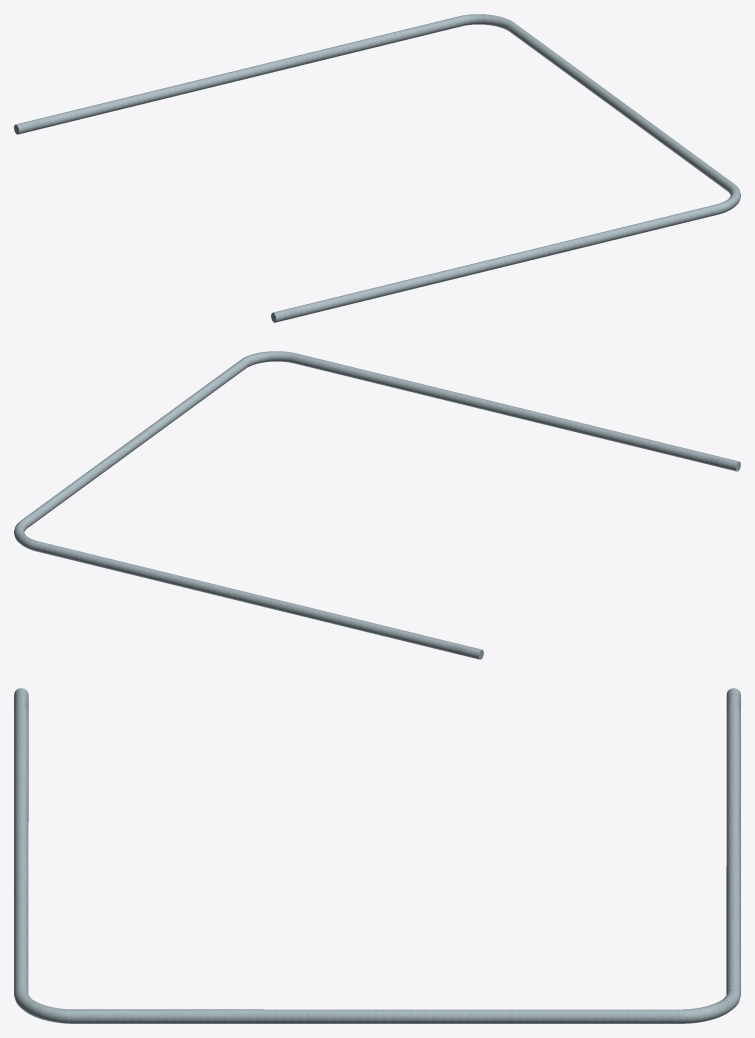
The model's file is 26-rolled-tin-rim-149.2-2.fbx.
The picture shows the model from 3 angles, top to bottom: view 1: azimuth 30°, elevation 25°; view 2: azimuth 150°, elevation 25°; view 3: azimuth 270°, elevation 25°; orthographic projection. The views are drawn at different scales.
Parts seen in each view (by area): view 1: rolled-tin-rim-149.2-2; view 2: rolled-tin-rim-149.2-2; view 3: rolled-tin-rim-149.2-2.
Boxes of the visible parts, bbox=[...] form: rolled-tin-rim-149.2-2: bbox=[14, 14, 740, 322]; rolled-tin-rim-149.2-2: bbox=[14, 351, 740, 659]; rolled-tin-rim-149.2-2: bbox=[14, 688, 740, 1023].
Bounding box in the file's own units: 8530 × 160 × 8059.
1 material, 1 textured.
